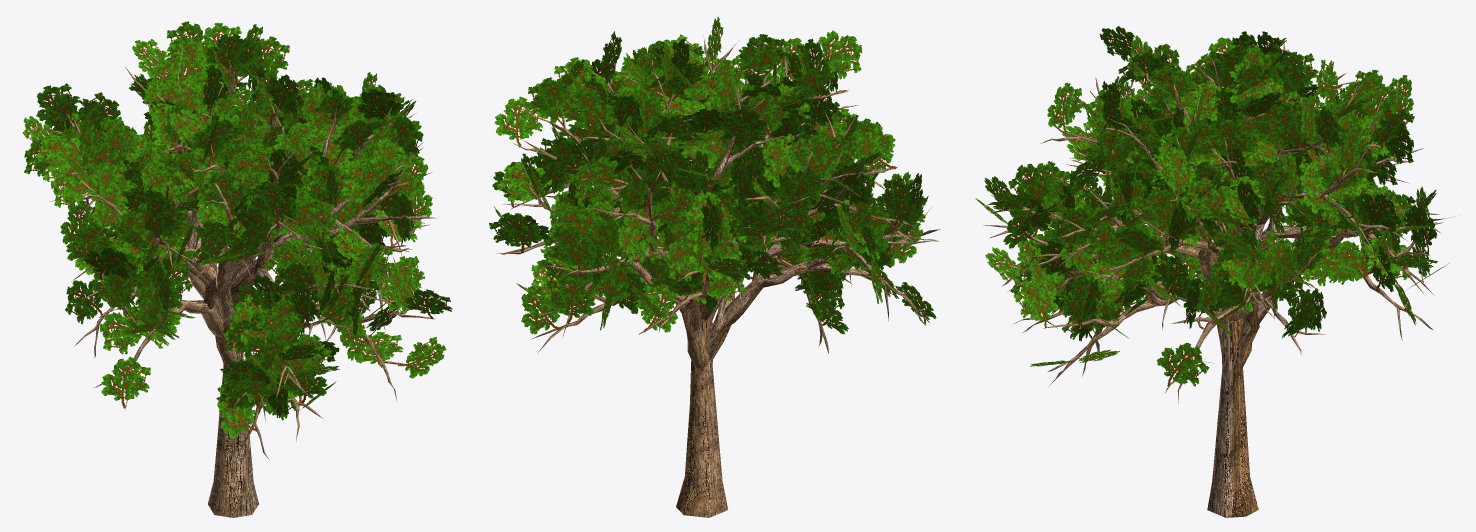
Rendered from arvoreGrande.glb.
3 renders of one model, left to right at view 1: azimuth 30°, elevation 25°; view 2: azimuth 150°, elevation 25°; view 3: azimuth 270°, elevation 25°, orthographic.
Visible parts, largest first — view 1: Tree.002; view 2: Tree.002; view 3: Tree.002.
Part boxes in pixels (<box>): Tree.002: <box>22,21,452,517</box>; Tree.002: <box>489,17,940,517</box>; Tree.002: <box>975,26,1455,517</box>.
Size of the model in its own units: 13.77 by 15.56 by 14.74.
2 materials, 2 textured.
